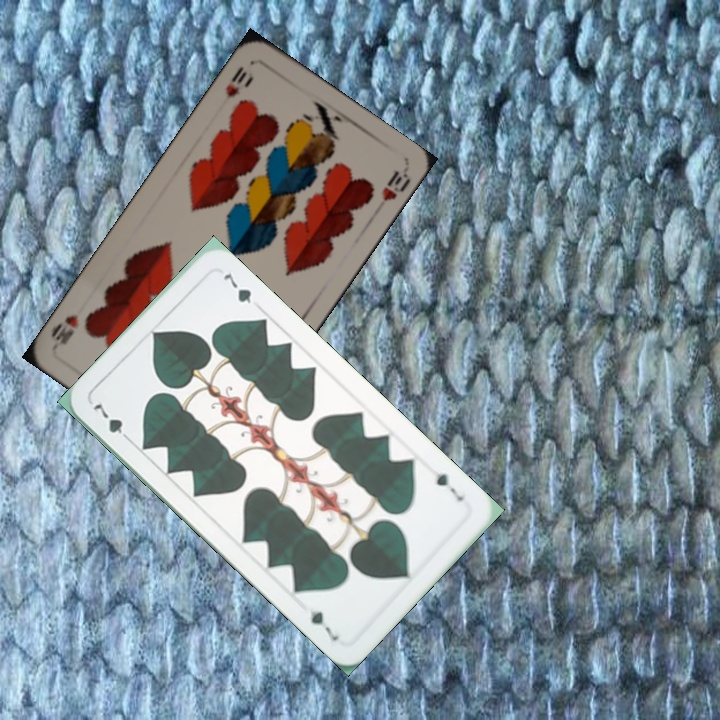G7: (89, 399, 135, 445), (432, 469, 467, 504)
H10: (221, 62, 250, 100)
